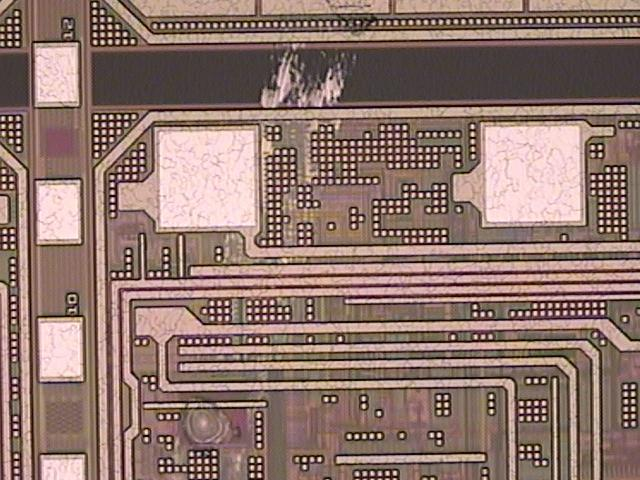SCRATCH: (161, 1, 387, 480)
